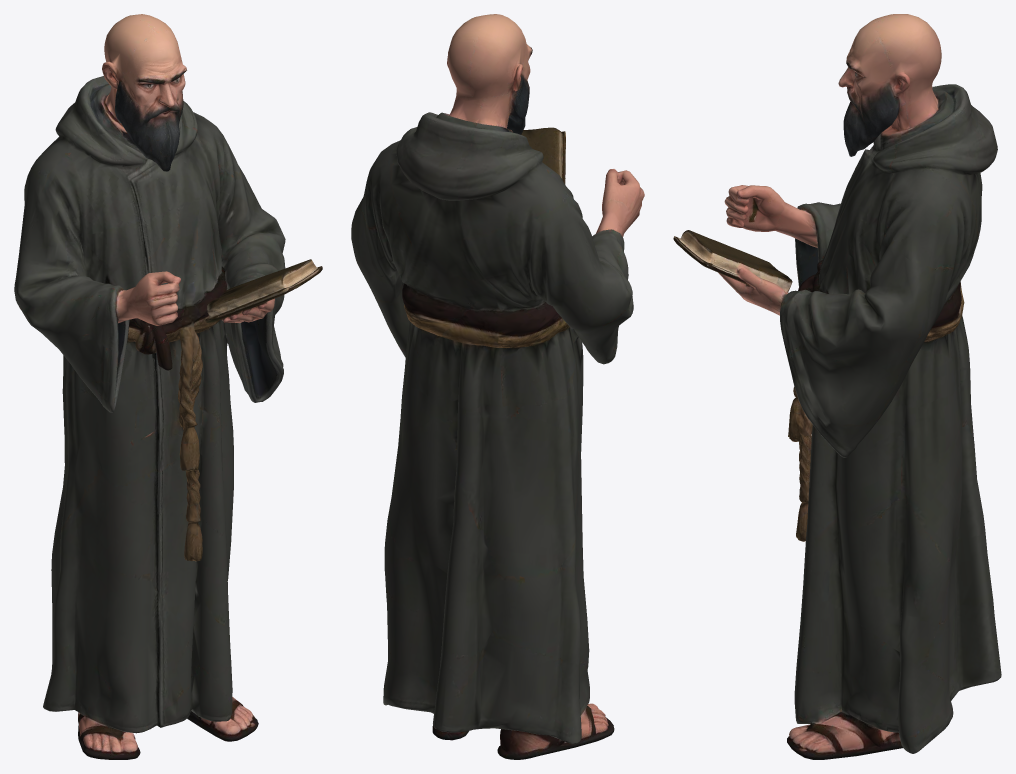
Rendered from brother_cass.glb.
The picture shows the model from 3 angles, left to right: view 1: azimuth 30°, elevation 25°; view 2: azimuth 150°, elevation 25°; view 3: azimuth 270°, elevation 25°; orthographic projection. The views are drawn at different scales.
Bounding box in the file's own units: 0.7518 × 1.9 × 0.7984.
1 material, 1 textured.
